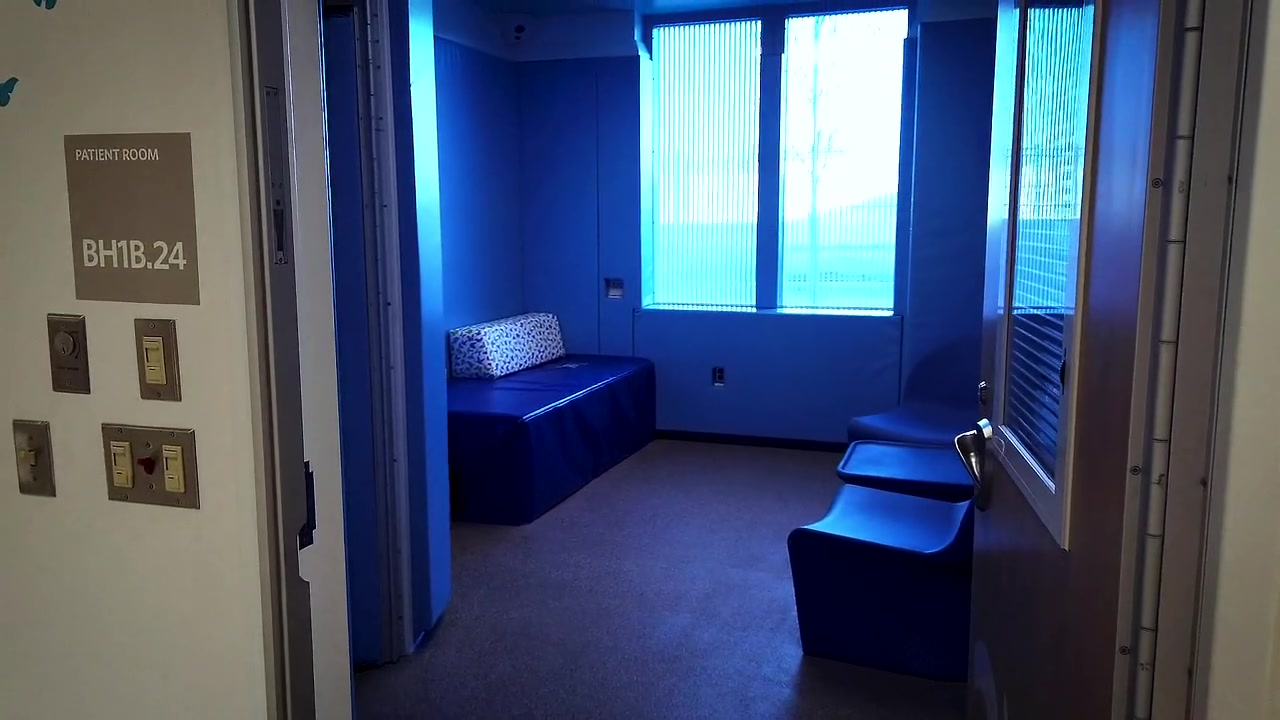door_handle: (952, 416, 993, 512)
sofa: (445, 312, 654, 526), (787, 480, 976, 683), (844, 339, 979, 441)
table: (836, 439, 971, 503)
